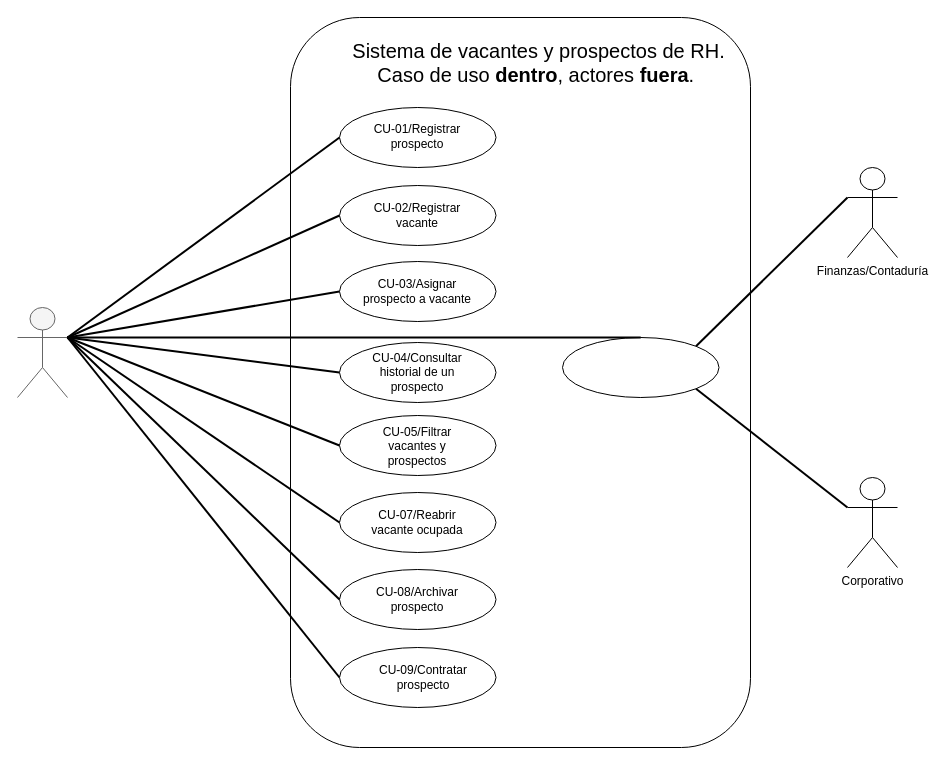
Image size: 945x765. Some labels were removed from this diagram. Each missing label, with the centre of its shape:
CU-06/Consultar estatus de vacantes: the point at 640,367
RH: the point at 42,352
